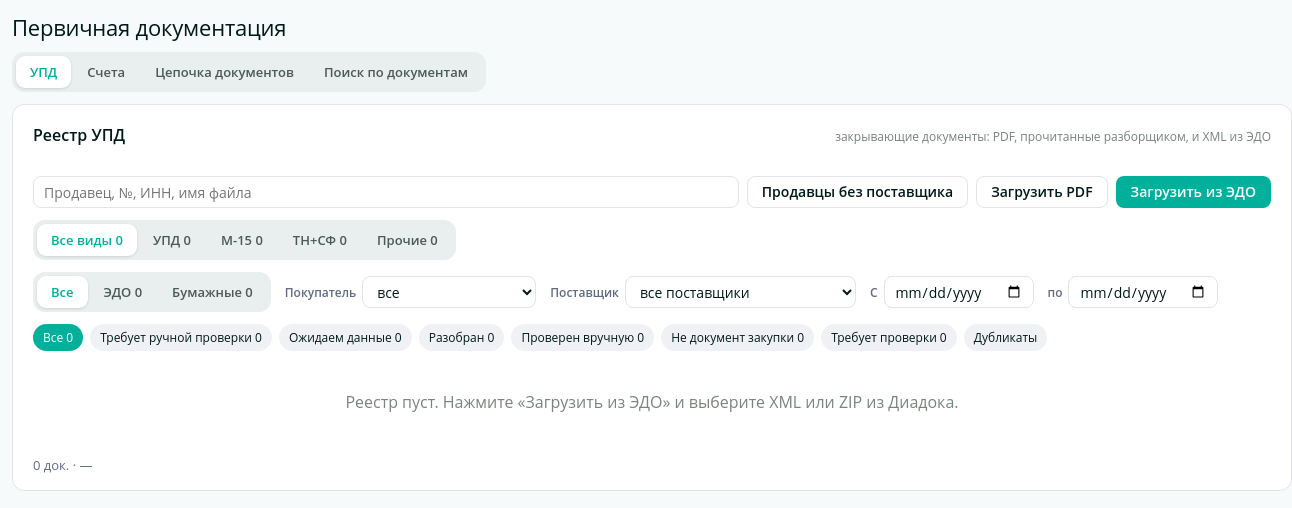
Scenario: «Первичная документация» shows «Счета», «Цепочка документов», «Поиск по документам»
Expected: the tab "Цепочка документов" is shown, left=141, top=56, right=308, bottom=88
Expected: the tab "Поиск по документам" is shown, left=310, top=56, right=482, bottom=88
Click the tab "Счета". click: (106, 72)
box: left=73, top=56, right=139, bottom=88
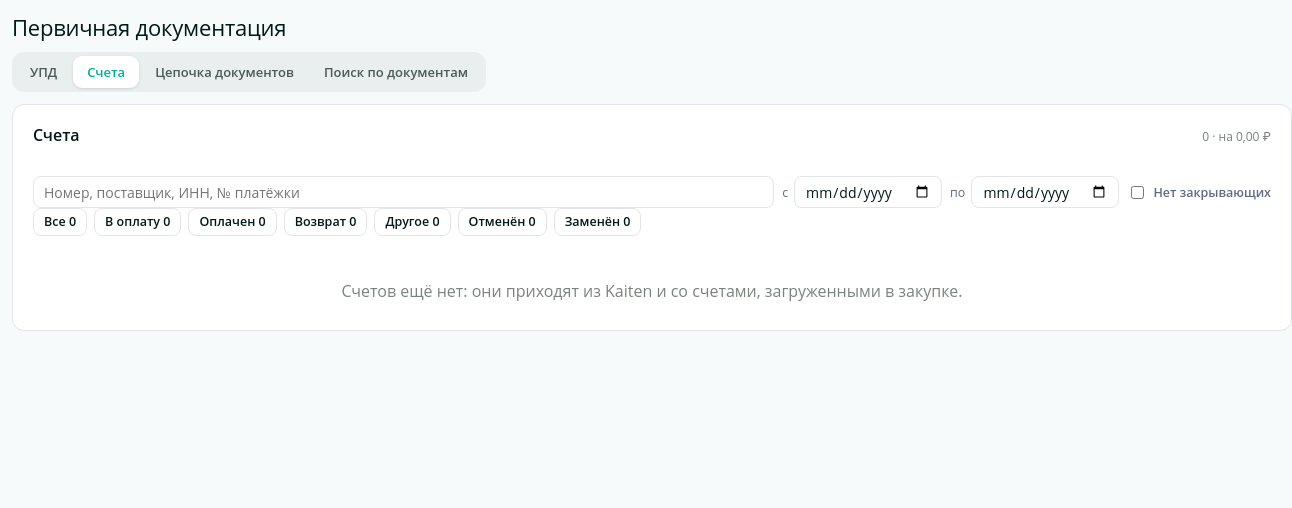
Now the text "Счетов ещё нет: они приходят из Kaiten и со счетами, загруженными в закупке." is shown, box left=342, top=280, right=962, bottom=302
